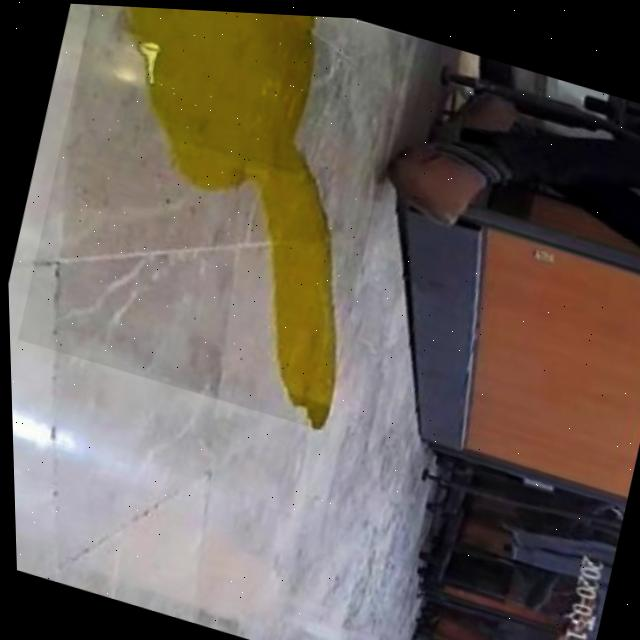spillage: (123, 5, 334, 424)
